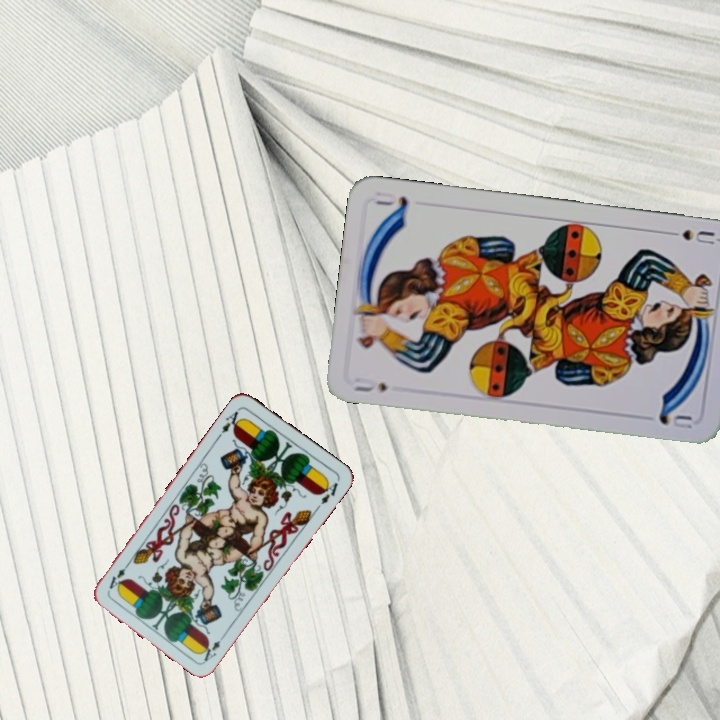EA: (214, 405, 246, 440), (199, 629, 229, 664)
SU: (660, 226, 717, 247), (350, 373, 390, 395)
